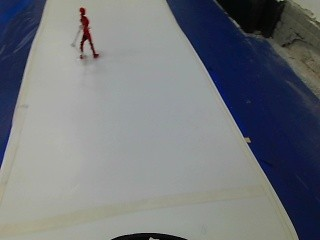pedestrian: (64, 5, 105, 63)
